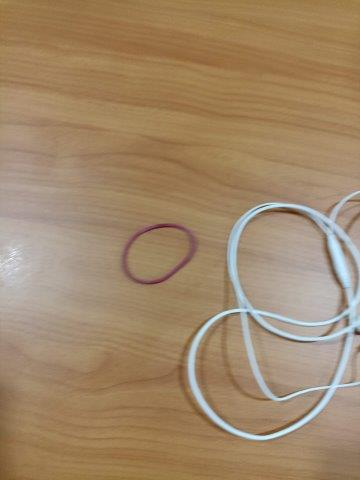karet: (120, 223, 198, 285)
